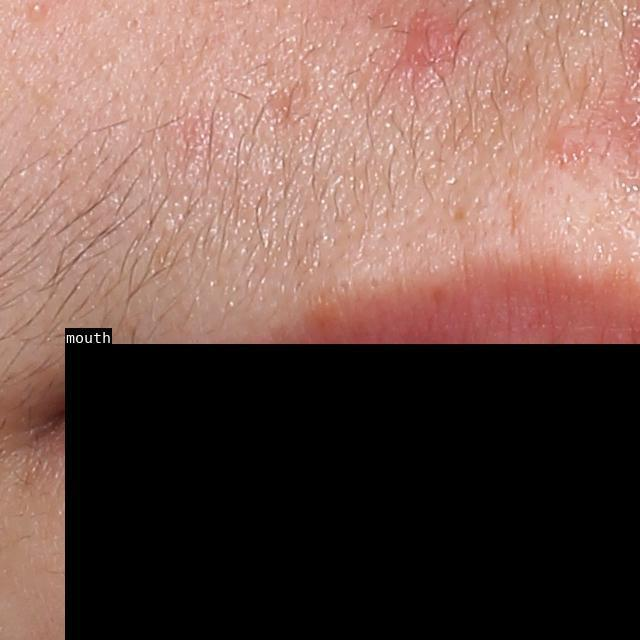comedo: (126, 14, 143, 29), (30, 4, 46, 19)
papule: (409, 23, 451, 66)
